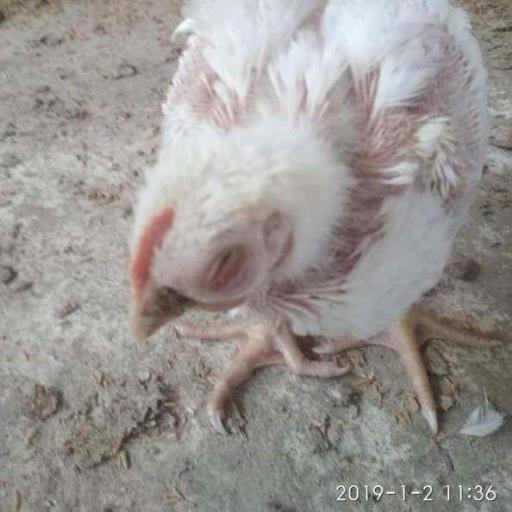disease: (190, 234, 274, 306)
